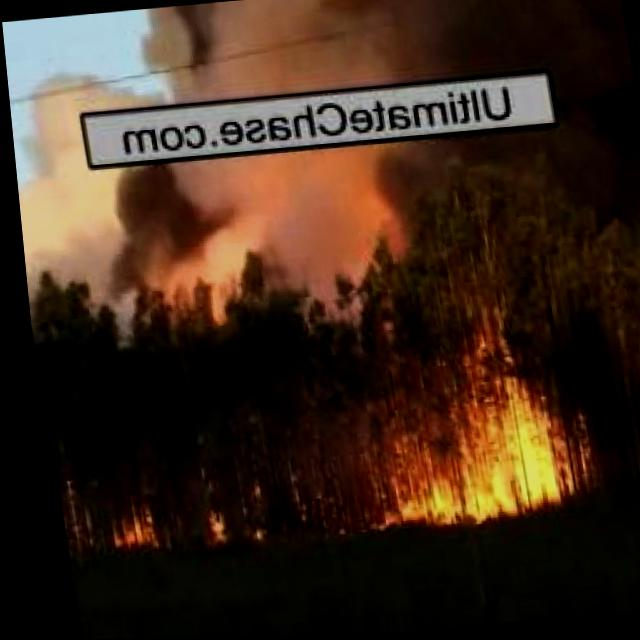helmet: (356, 387, 562, 533), (94, 496, 149, 553), (192, 499, 221, 545)
no_helmet: (0, 0, 640, 385)
